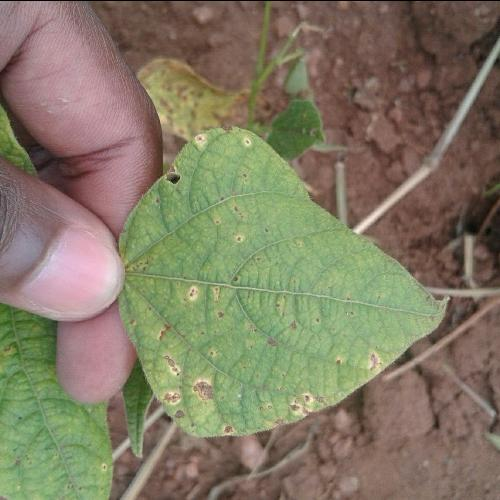hawar: (202, 174, 262, 250), (154, 352, 217, 406), (267, 382, 328, 429), (179, 274, 247, 316), (258, 317, 312, 349), (359, 331, 397, 376), (160, 159, 190, 188), (151, 322, 175, 340)
mozaik: (276, 243, 368, 300)
